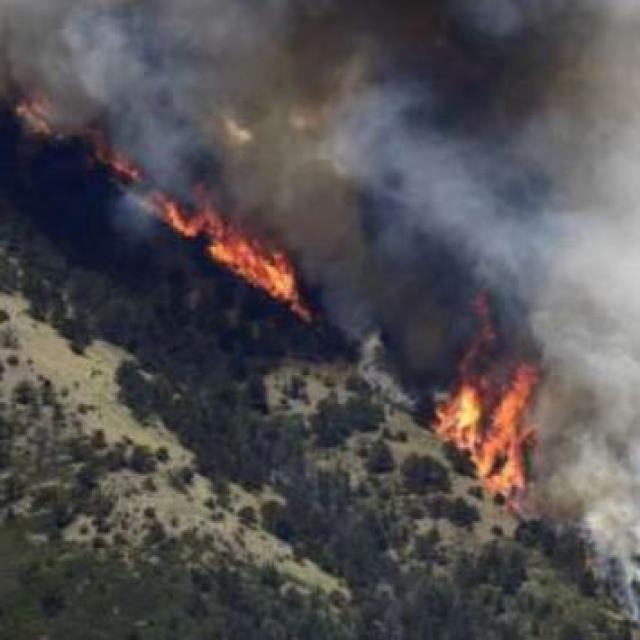Fire: (111, 149, 304, 306), (420, 352, 530, 499)
Smoke: (209, 16, 636, 534)
